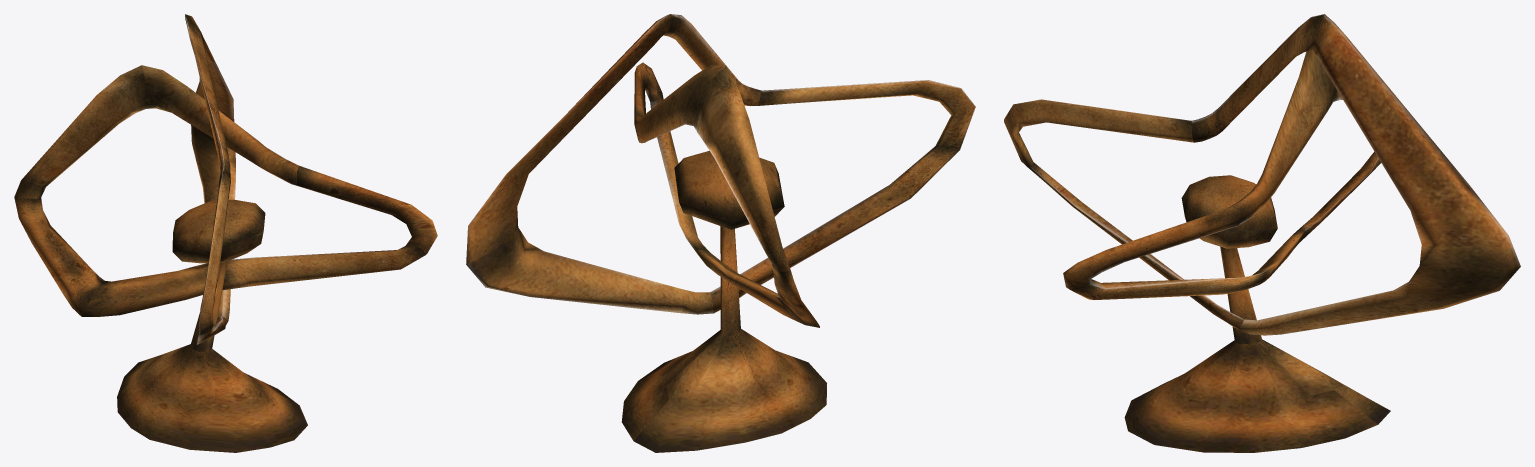
Rendered from frn_quest_sculpture_s01_l0.fbx.
3 views of the same model, side by side, from view 1: azimuth 30°, elevation 25°; view 2: azimuth 150°, elevation 25°; view 3: azimuth 270°, elevation 25° (orthographic). The views are drawn at different scales.
Visible parts, largest first — view 1: mesh_node; view 2: mesh_node; view 3: mesh_node.
Boxes of the visible parts, x1,y1,x2,y2 form: mesh_node: [14, 14, 437, 452]; mesh_node: [466, 14, 975, 452]; mesh_node: [1004, 14, 1520, 452].
Bounding box in the file's own units: 1.26 × 1.6 × 1.84.
